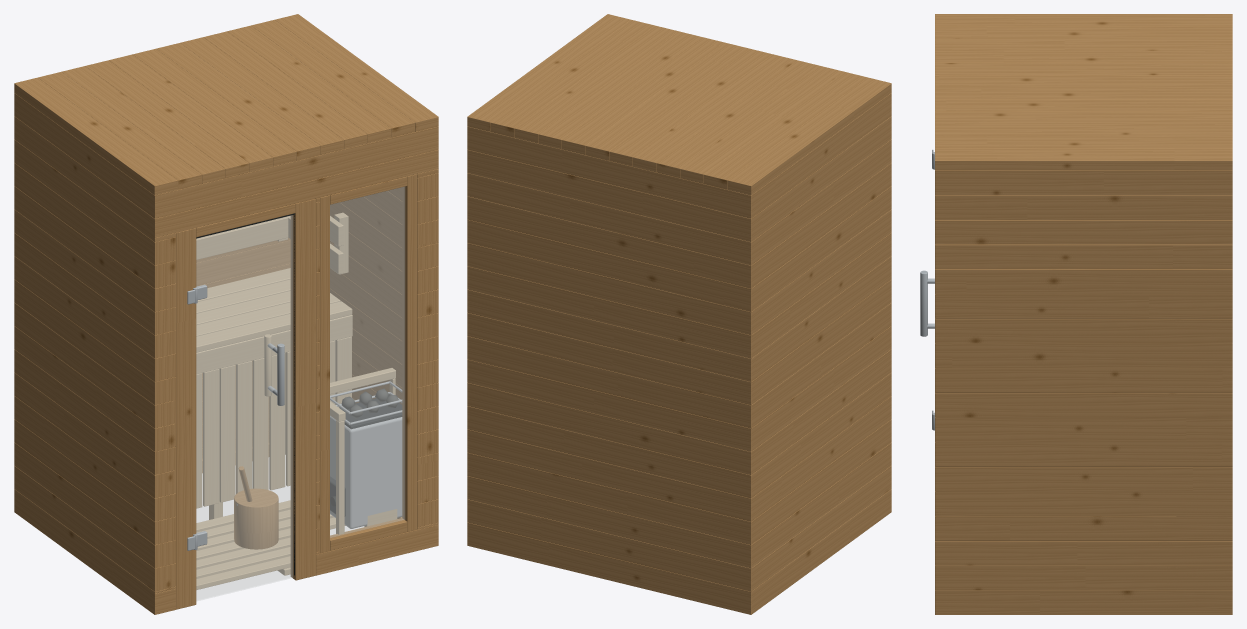
The model's file is espoo-compact.glb.
The picture shows the model from 3 angles, left to right: view 1: azimuth 30°, elevation 25°; view 2: azimuth 150°, elevation 25°; view 3: azimuth 270°, elevation 25°; orthographic projection. The views are drawn at different scales.
Visible parts, largest first — view 1: Door glass 8mm, Window glass 8mm, Door jamb.001, Door jamb, Front board 18, Heater casing, Front board 17.003, Window jamb.001, Ceiling board 01, Ceiling board 10, Ceiling board 04, Ceiling board 07 (+64 smaller); view 2: Back board 05, Back board 09, Back board 14, Back board 01, Back board 02, Back board 03, Back board 04, Back board 06, Back board 07, Back board 08, Back board 11, Back board 12 (+36 smaller); view 3: Right board 02, Right board 05, Right board 08, Right board 11, Right board 18, Right board 14, Right board 15, Right board 01, Right board 03, Right board 04, Right board 06, Right board 07 (+19 smaller).
Part boxes in pixels (x1=…): Door glass 8mm: x1=196, y1=215, x2=292, y2=600; Window glass 8mm: x1=330, y1=187, x2=404, y2=537; Door jamb.001: x1=290, y1=199, x2=315, y2=580; Door jamb: x1=176, y1=228, x2=196, y2=609; Front board 18: x1=154, y1=126, x2=438, y2=218; Heater casing: x1=330, y1=416, x2=402, y2=528; Front board 17.003: x1=154, y1=149, x2=438, y2=237; Window jamb.001: x1=402, y1=174, x2=417, y2=531; Ceiling board 01: x1=14, y1=77, x2=178, y2=195; Ceiling board 10: x1=227, y1=25, x2=391, y2=143; Ceiling board 04: x1=85, y1=60, x2=249, y2=177; Ceiling board 07: x1=156, y1=43, x2=320, y2=160; Back board 05: x1=467, y1=429, x2=751, y2=521; Back board 09: x1=467, y1=336, x2=751, y2=428; Back board 14: x1=467, y1=219, x2=751, y2=311; Back board 01: x1=467, y1=522, x2=751, y2=614; Back board 02: x1=467, y1=499, x2=751, y2=591; Back board 03: x1=467, y1=476, x2=751, y2=568; Back board 04: x1=467, y1=452, x2=751, y2=544; Back board 06: x1=467, y1=406, x2=751, y2=498; Back board 07: x1=467, y1=382, x2=751, y2=474; Back board 08: x1=467, y1=359, x2=751, y2=451; Back board 11: x1=467, y1=289, x2=751, y2=381; Back board 12: x1=467, y1=266, x2=751, y2=358; Right board 02: x1=935, y1=565, x2=1232, y2=590; Right board 05: x1=935, y1=491, x2=1232, y2=516; Right board 08: x1=935, y1=417, x2=1232, y2=442; Right board 11: x1=935, y1=343, x2=1232, y2=368; Right board 18: x1=935, y1=170, x2=1232, y2=195; Right board 14: x1=935, y1=269, x2=1232, y2=294; Right board 15: x1=935, y1=244, x2=1232, y2=269; Right board 01: x1=935, y1=590, x2=1232, y2=614; Right board 03: x1=935, y1=541, x2=1232, y2=565; Right board 04: x1=935, y1=516, x2=1232, y2=540; Right board 06: x1=935, y1=467, x2=1232, y2=491; Right board 07: x1=935, y1=442, x2=1232, y2=466.
Size of the model in its own units: 1.4 by 2.02 by 1.26.
9 materials, 2 textured.
